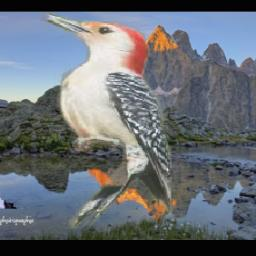Crow: (0, 125, 32, 209)
Woodpecker: (36, 12, 171, 228)
